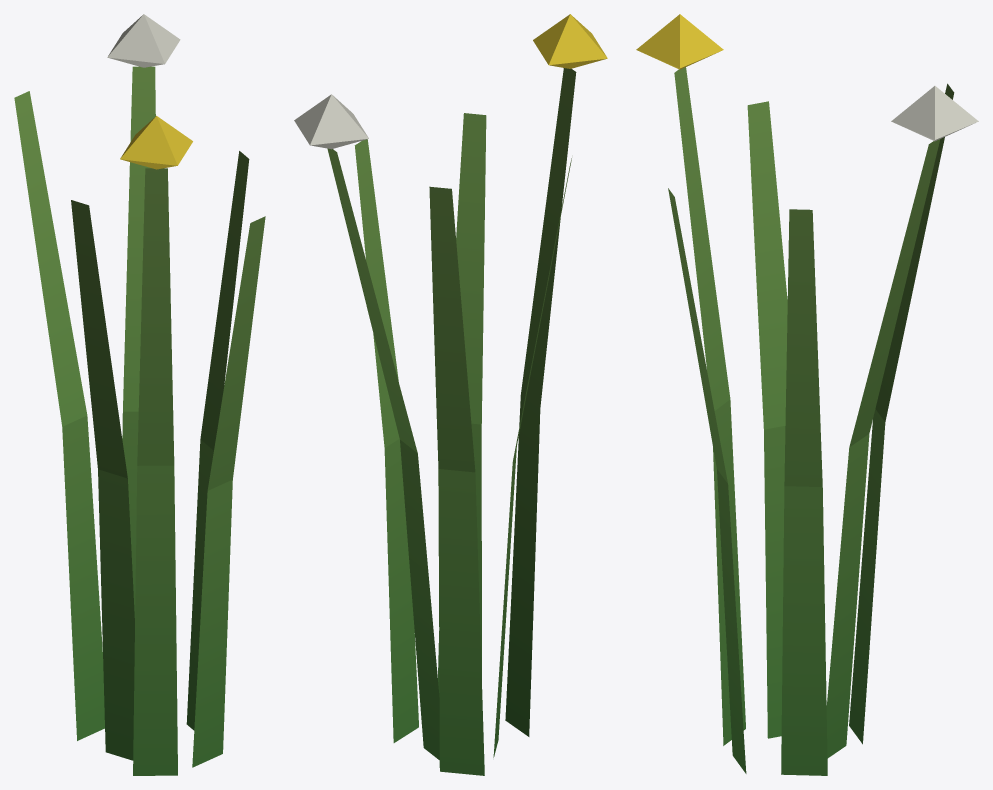
File: herbe_03.glb
The picture shows the model from 3 angles, left to right: view 1: azimuth 30°, elevation 25°; view 2: azimuth 150°, elevation 25°; view 3: azimuth 270°, elevation 25°; orthographic projection. The views are drawn at different scales.
Parts seen in each view (by area): view 1: herbe_03; view 2: herbe_03; view 3: herbe_03.
Boxes of the visible parts, x1,y1,x2,y2 form: herbe_03: [14, 14, 265, 775]; herbe_03: [294, 14, 607, 775]; herbe_03: [636, 14, 978, 775].
Size of the model in its own units: 0.1653 by 0.5704 by 0.2495.
